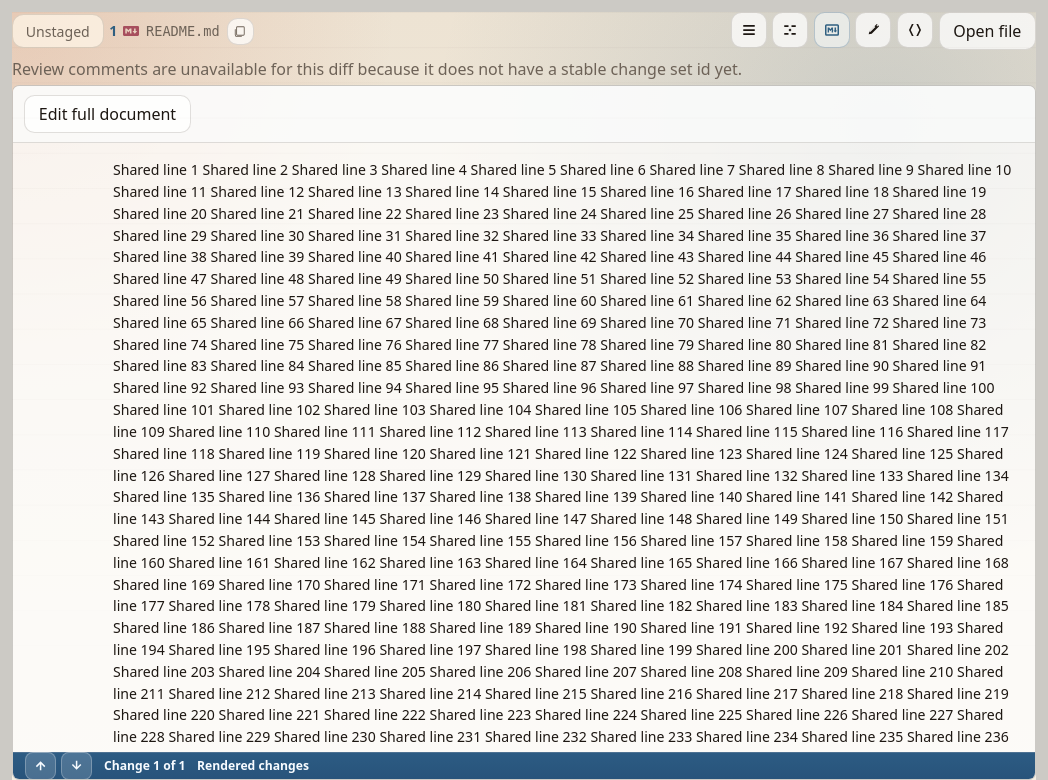
it: DiffPanel › renders complete large Markdown diffs while deferring editable full-document sections
Expected: the footer named "Markdown diff status" is shown, [13,752,1035,779]
Click the button "Edit full document".
click(107, 114)  # box [24,95,191,133]
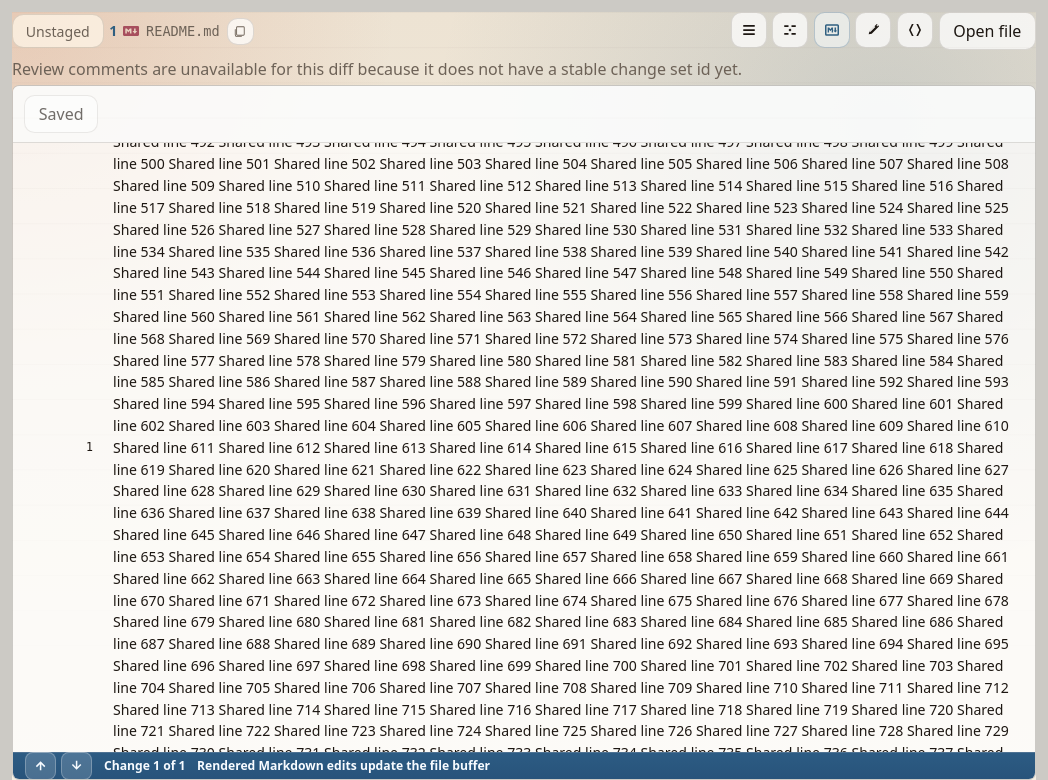
Now the button "Edit full document" is gone
